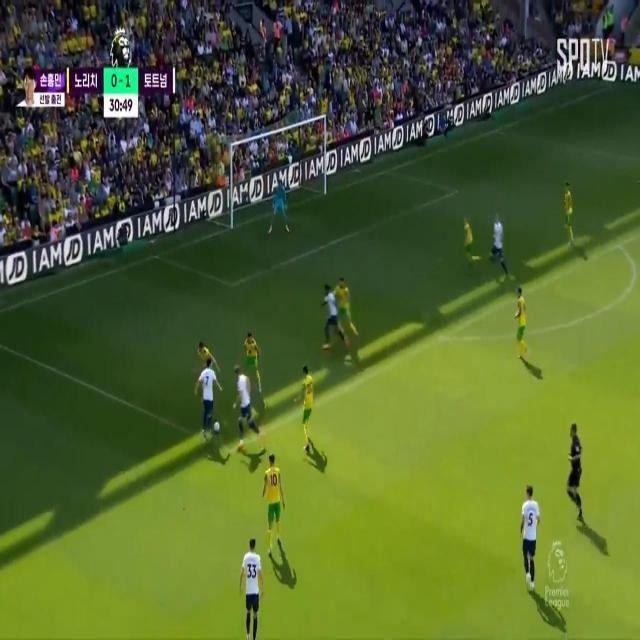ball: (241, 325, 266, 380), (210, 416, 226, 435)
goalkeeper: (267, 176, 291, 236)
player: (516, 484, 546, 588), (234, 361, 255, 447), (244, 537, 260, 640), (298, 362, 315, 454), (514, 285, 534, 357), (267, 446, 280, 551), (560, 180, 577, 250), (490, 208, 507, 276), (202, 354, 214, 446), (322, 281, 337, 352), (336, 271, 353, 333), (461, 216, 478, 269), (196, 337, 214, 375)
referee: (566, 419, 583, 521)
